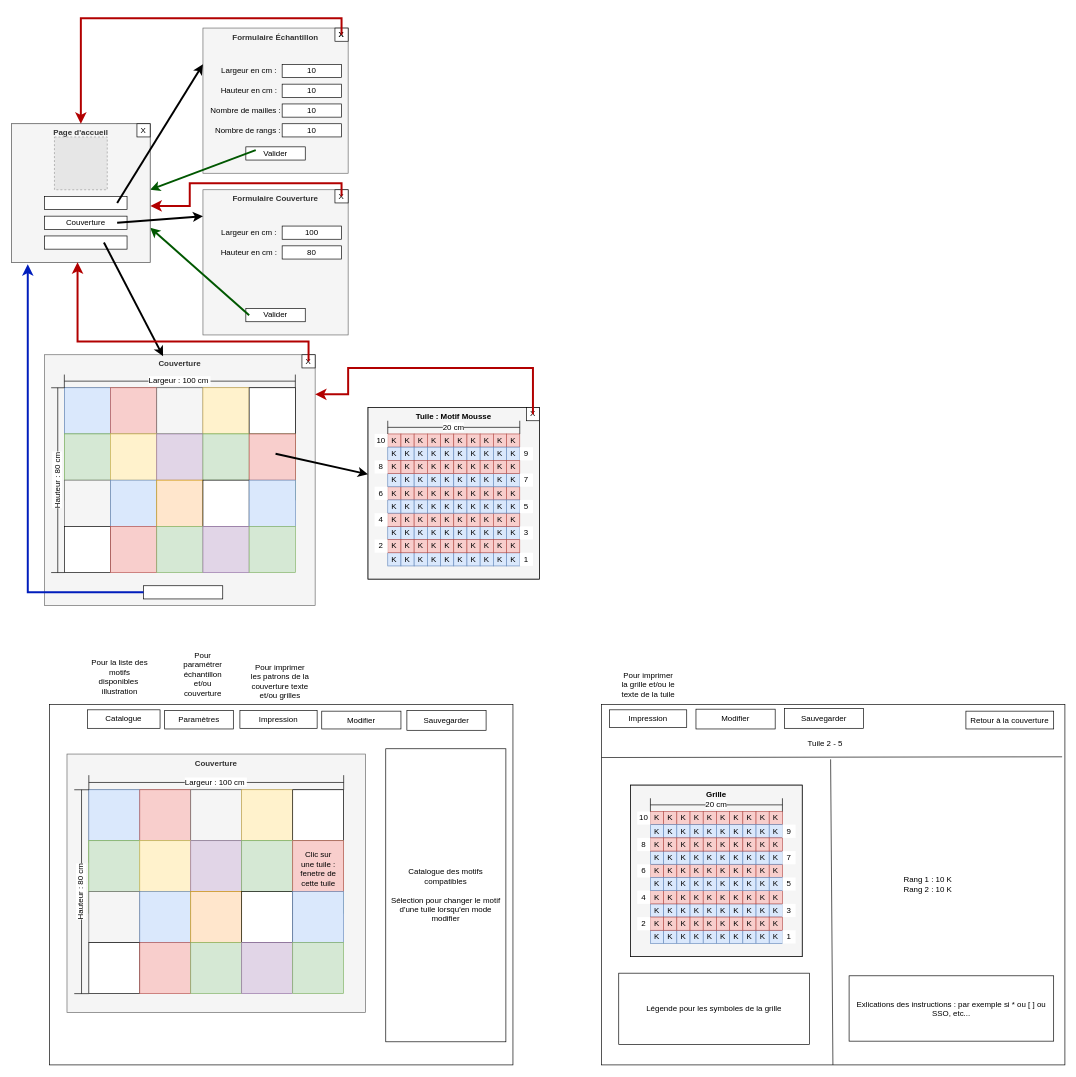
The diagram is 1076 pixels wide and 1077 high, and some of its shapes have lost their labels. Grey dashed boxes stand in for pictures. The shapes that lost their labels are listed below. From the top down, each one's centre as x and y in pixels, then its label:
At point 85,203: "Échantillon".
At point 85,242: "Générer".
At point 183,592: "Nouvelle couverture".
